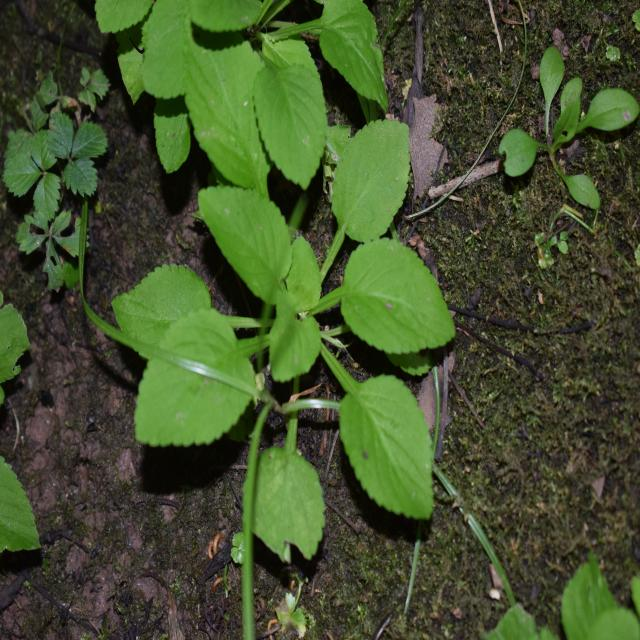Viola: (158, 135, 497, 533)
